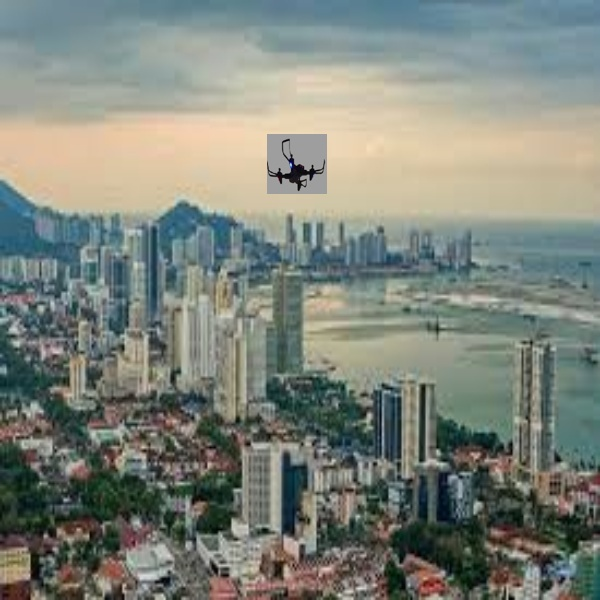drone: (265, 132, 330, 195)
